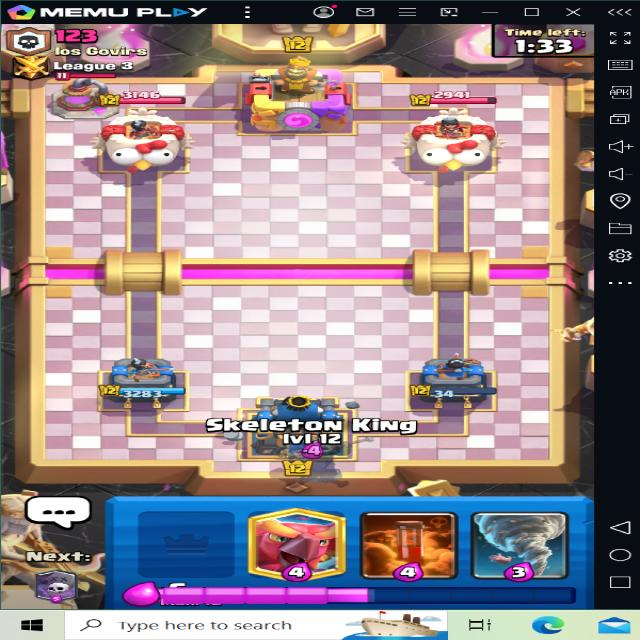elixir-collector: (45, 75, 132, 120)
